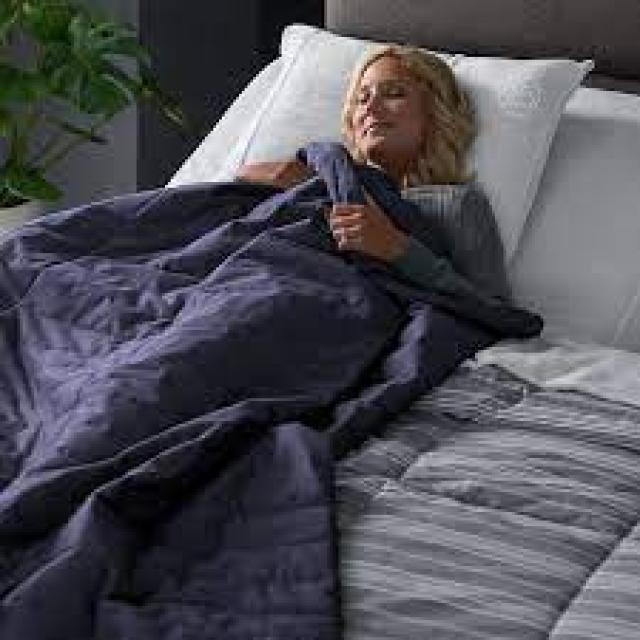blanket: (0, 144, 538, 639)
